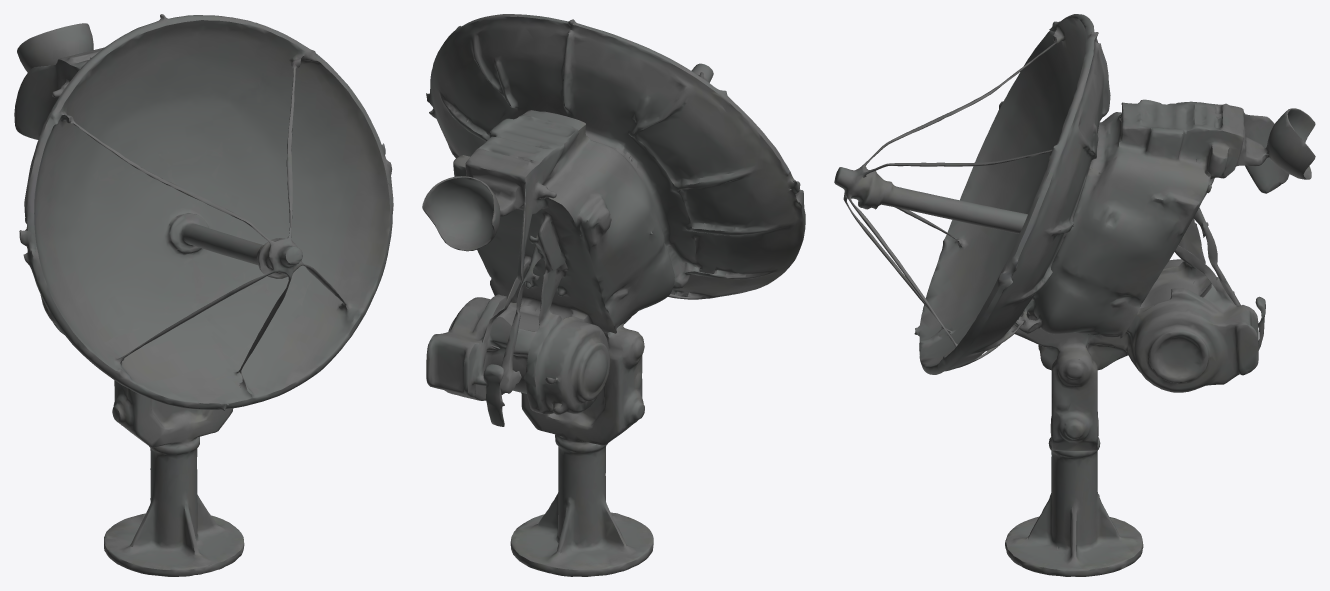
Rendered from satellite-dish.glb.
The picture shows the model from 3 angles, left to right: view 1: azimuth 30°, elevation 25°; view 2: azimuth 150°, elevation 25°; view 3: azimuth 270°, elevation 25°; orthographic projection. The views are drawn at different scales.
Visible parts, largest first — view 1: input; view 2: input; view 3: input.
Boxes of the visible parts, bbox=[...] form: input: bbox=[14, 14, 393, 576]; input: bbox=[422, 14, 805, 576]; input: bbox=[834, 14, 1315, 576].
Size of the model in its own units: 1.02 by 1.4 by 1.18.
Materials: 1 (1 with a texture image).
